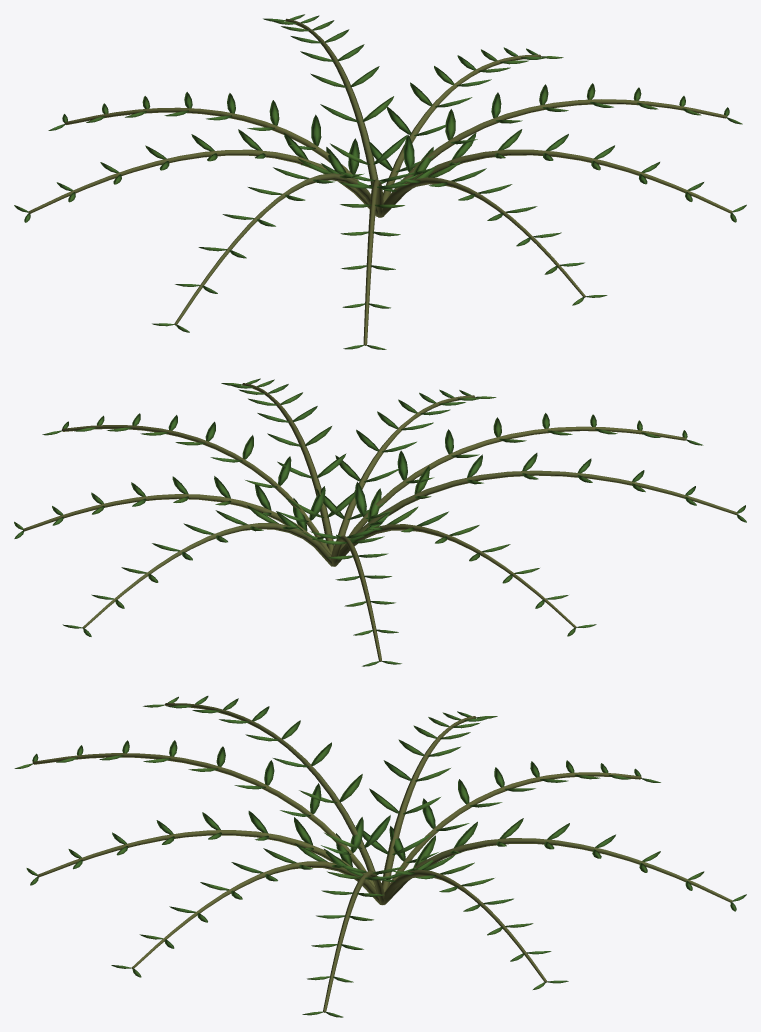
The model's file is potfill_fern.glb.
The picture shows the model from 3 angles, top to bottom: view 1: azimuth 30°, elevation 25°; view 2: azimuth 150°, elevation 25°; view 3: azimuth 270°, elevation 25°; orthographic projection. The views are drawn at different scales.
Parts seen in each view (by area): view 1: Sammel Pflanze, Sammel Putz; view 2: Sammel Pflanze, Sammel Putz; view 3: Sammel Pflanze, Sammel Putz.
Boxes of the visible parts, x1,y1,x2,y2 form: Sammel Pflanze: (14, 14, 746, 349); Sammel Putz: (28, 18, 732, 345); Sammel Pflanze: (14, 378, 746, 666); Sammel Putz: (23, 383, 737, 661); Sammel Pflanze: (14, 696, 746, 1017); Sammel Putz: (32, 703, 732, 1012).
Bounding box in the file's own units: 0.6917 × 0.104 × 0.6812.
